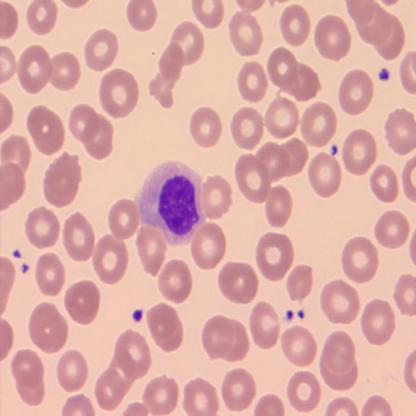Metamyelocyte: (136, 156, 202, 246)
